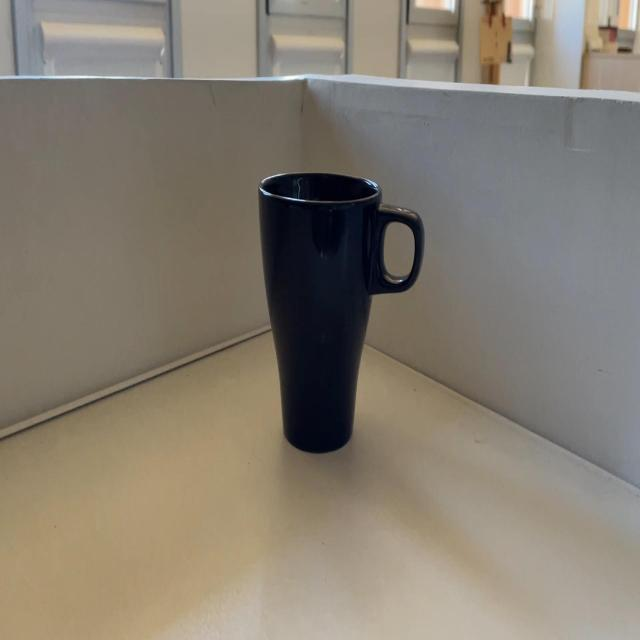cup: (257, 164, 430, 456)
